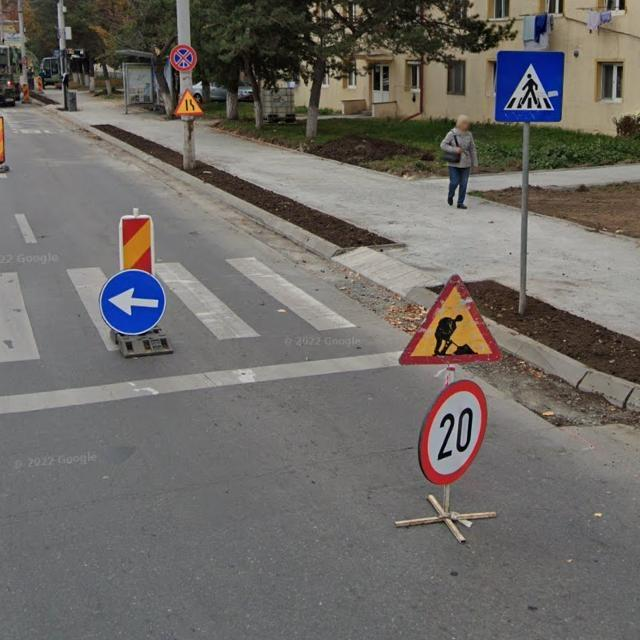forb_speed_over_20: (420, 378, 487, 484)
forb_waiting: (172, 45, 197, 73)
info_crosswalk: (495, 50, 564, 123)
